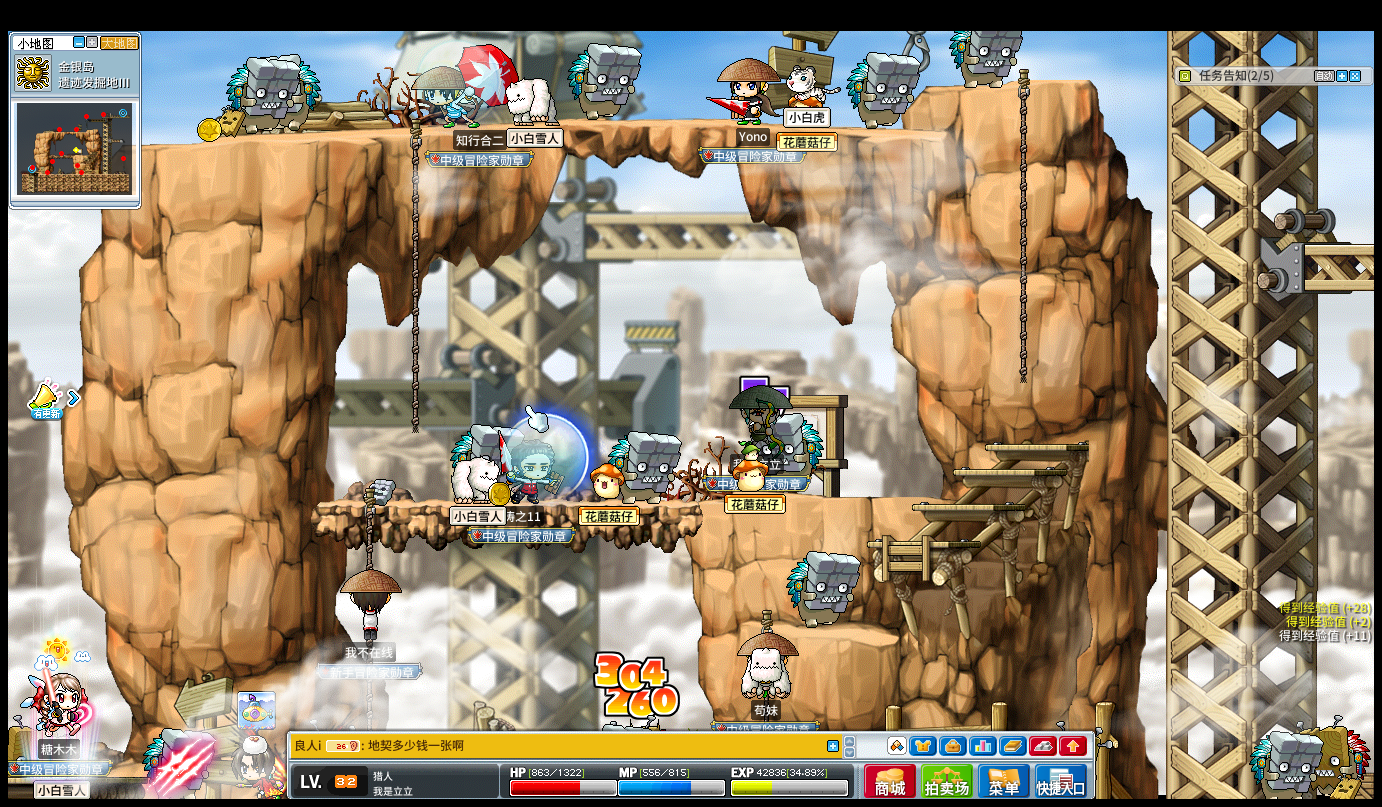floor: (123, 113, 977, 147), (307, 498, 720, 512), (787, 624, 901, 646), (924, 75, 1098, 89), (931, 79, 1087, 93), (761, 493, 946, 503), (787, 494, 953, 505), (1293, 238, 1377, 256), (910, 498, 1022, 511), (947, 464, 1064, 476), (865, 540, 977, 550), (981, 441, 1089, 451)
monster: (226, 55, 317, 136), (785, 550, 861, 630), (569, 41, 643, 122), (846, 52, 920, 131), (612, 430, 679, 503), (1250, 730, 1320, 795), (772, 413, 824, 494), (950, 26, 1011, 88), (1316, 721, 1369, 792)
rope: (408, 120, 423, 430), (1016, 59, 1029, 393), (361, 488, 375, 568)
